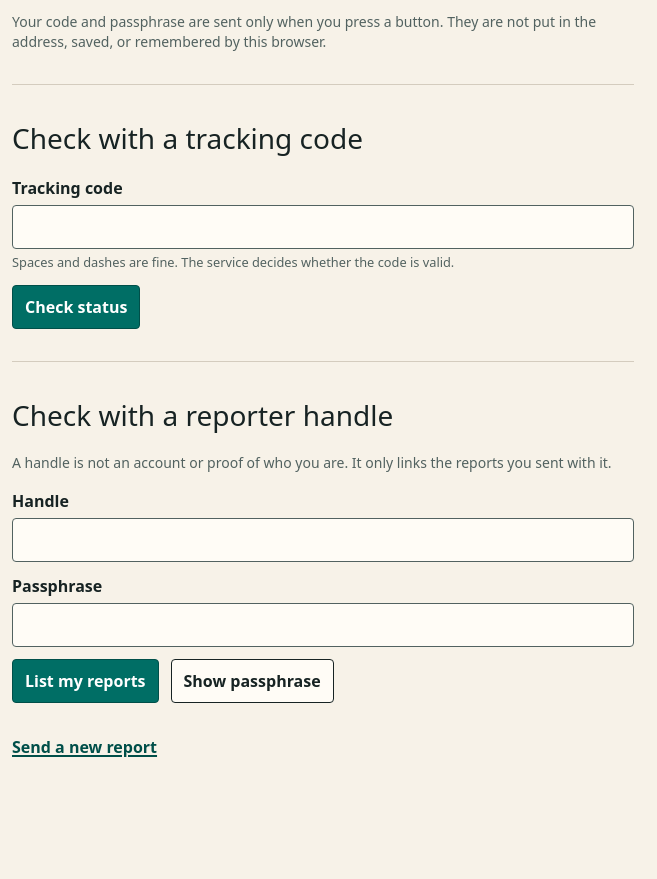
Test: TrackPanel › asks for a code before sending, and says how long to wait after a rate limit
This screenshot has width=657, height=879.
Click the button "Check status": click(76, 307) [12,285,140,329]
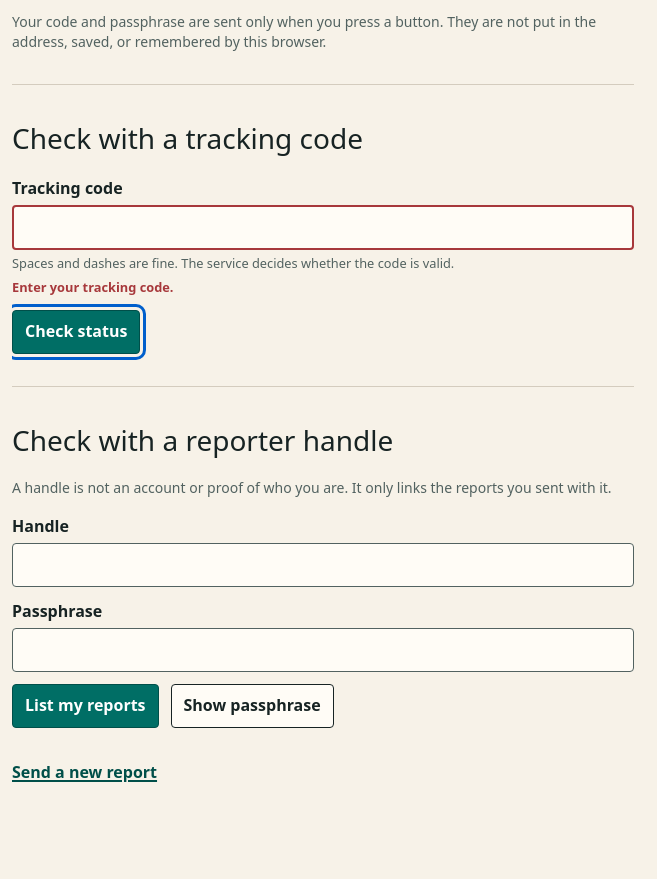
Now the text "Enter your tracking code." is shown, box [12,278,174,296]
In the field labelled "Tracking code": (323, 228) [12,205,634,250], type "abc"
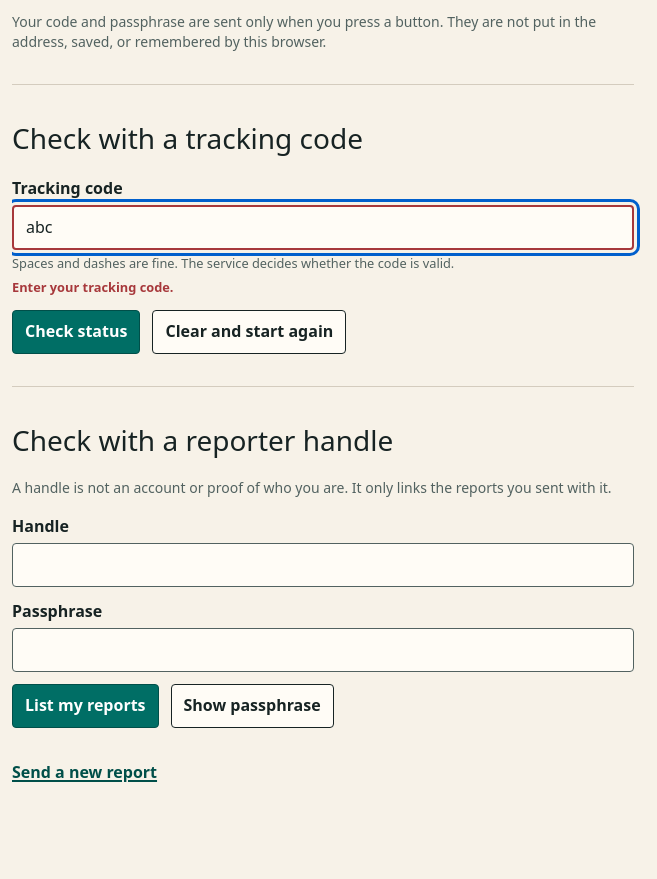
Click the button "Check status": click(76, 332) [12,310,140,354]
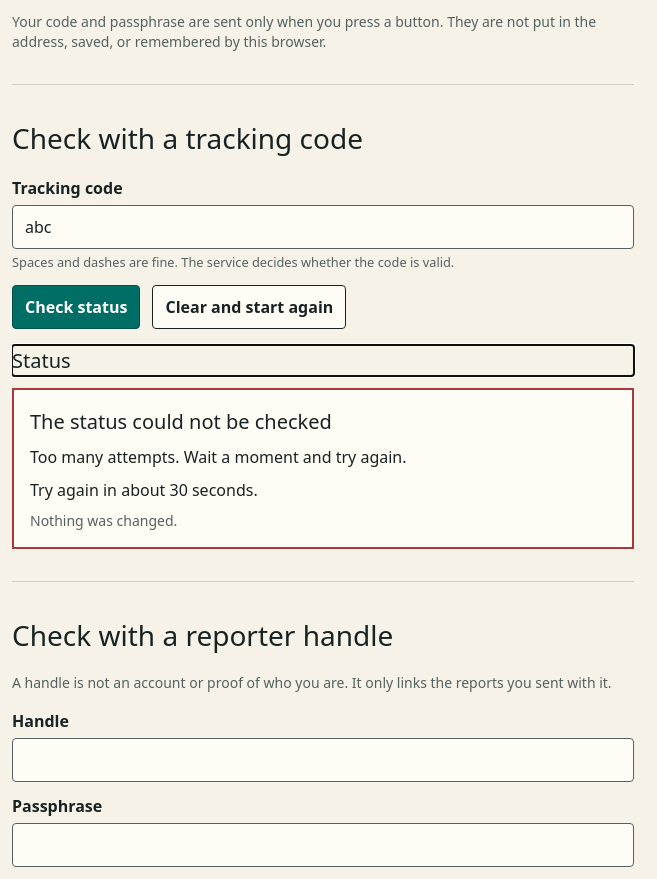
Now the text "Try again in about 30 seconds." is shown, box [30,479,258,501]
